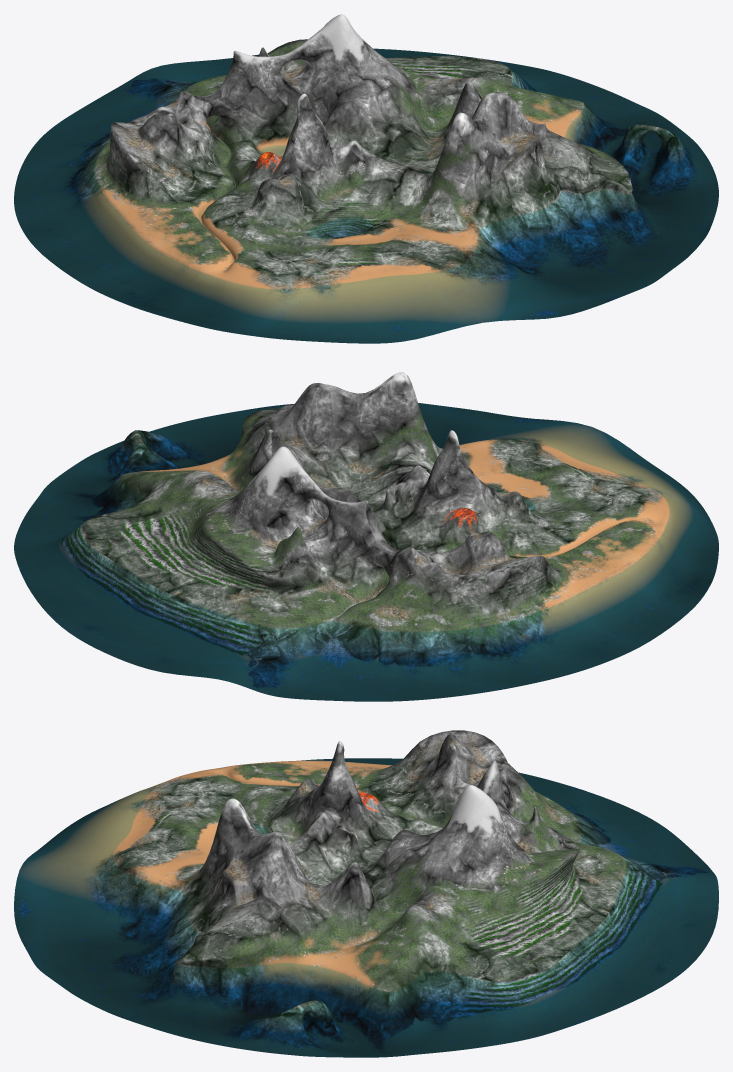
Rendered from Land_01.fbx.
The picture shows the model from 3 angles, top to bottom: view 1: azimuth 30°, elevation 25°; view 2: azimuth 150°, elevation 25°; view 3: azimuth 270°, elevation 25°; orthographic projection.
Visible parts, largest first — view 1: Land_01; view 2: Land_01; view 3: Land_01.
Part boxes in pixels (x1,y1,x2,y2): Land_01: (14, 14, 718, 343); Land_01: (14, 372, 718, 701); Land_01: (14, 730, 718, 1057).
Size of the model in its own units: 350504 by 81115 by 348795.
